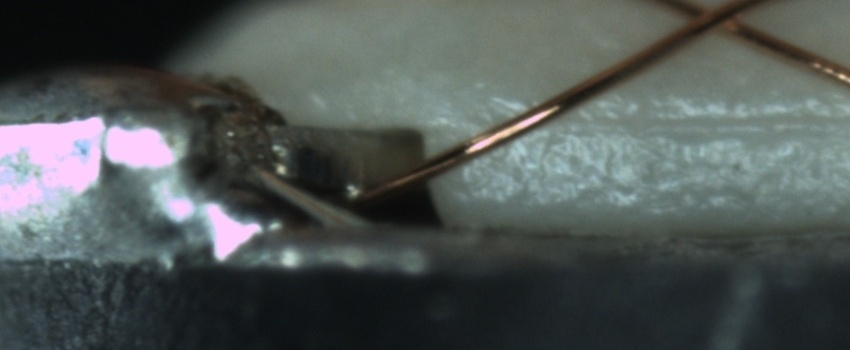CL: (673, 0, 759, 42)
DL: (509, 92, 850, 156)
